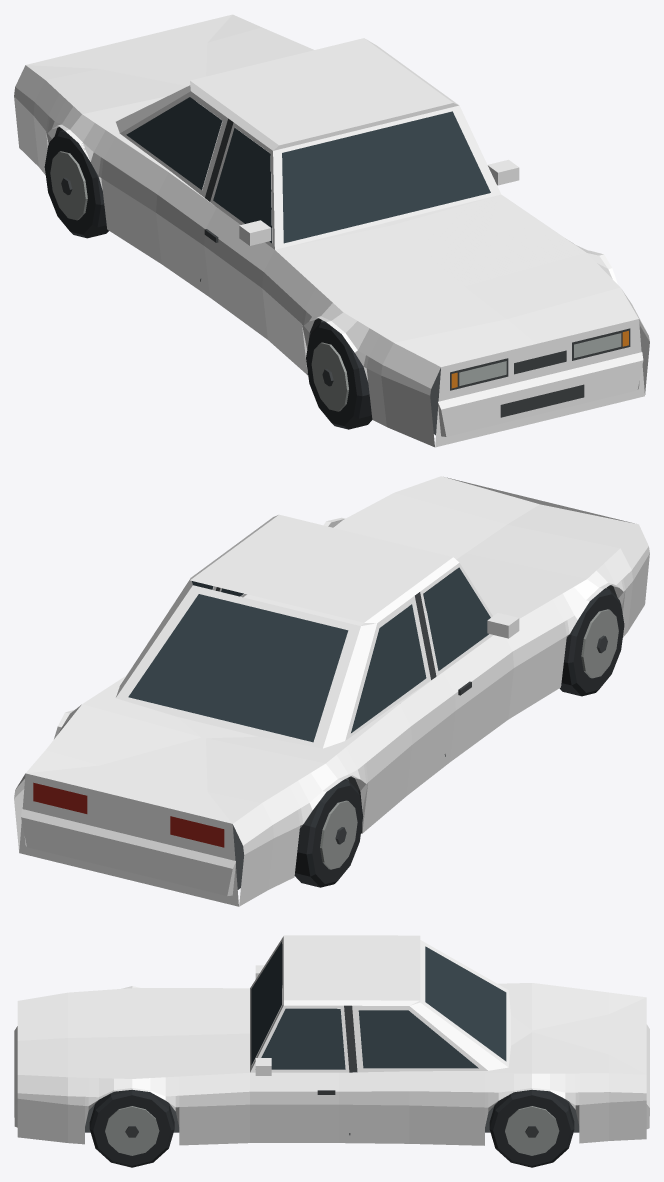
Rendered from hayase_komorebi_s_91.glb.
3 views of the same model, one above another, from view 1: azimuth 30°, elevation 25°; view 2: azimuth 150°, elevation 25°; view 3: azimuth 270°, elevation 25° (orthographic). The views are drawn at different scales.
Parts seen in each view (by area): view 1: hayase_komorebi_s_91; view 2: hayase_komorebi_s_91; view 3: hayase_komorebi_s_91.
Boxes of the visible parts, box(x1,y1,x2,y2) form: hayase_komorebi_s_91: box(14, 14, 649, 447); hayase_komorebi_s_91: box(14, 476, 649, 906); hayase_komorebi_s_91: box(14, 935, 649, 1167).
Bounding box in the file's own units: 1.81 × 1.23 × 4.69.
8 materials, 1 textured.
